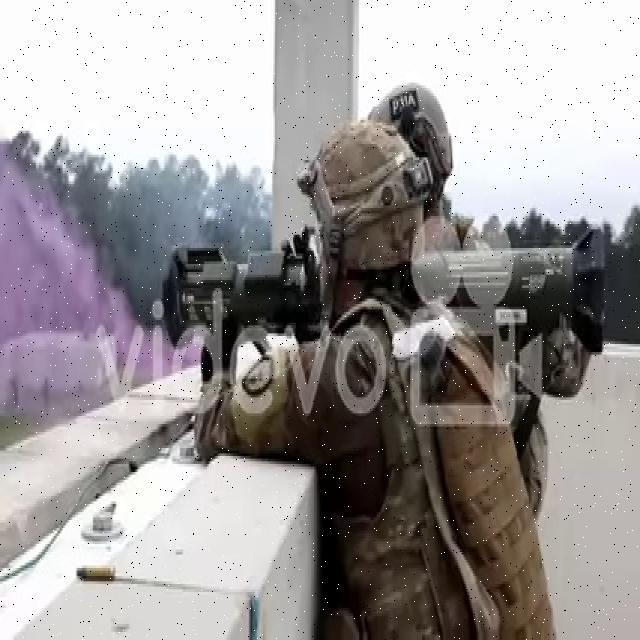bazooka: (163, 217, 610, 372)
